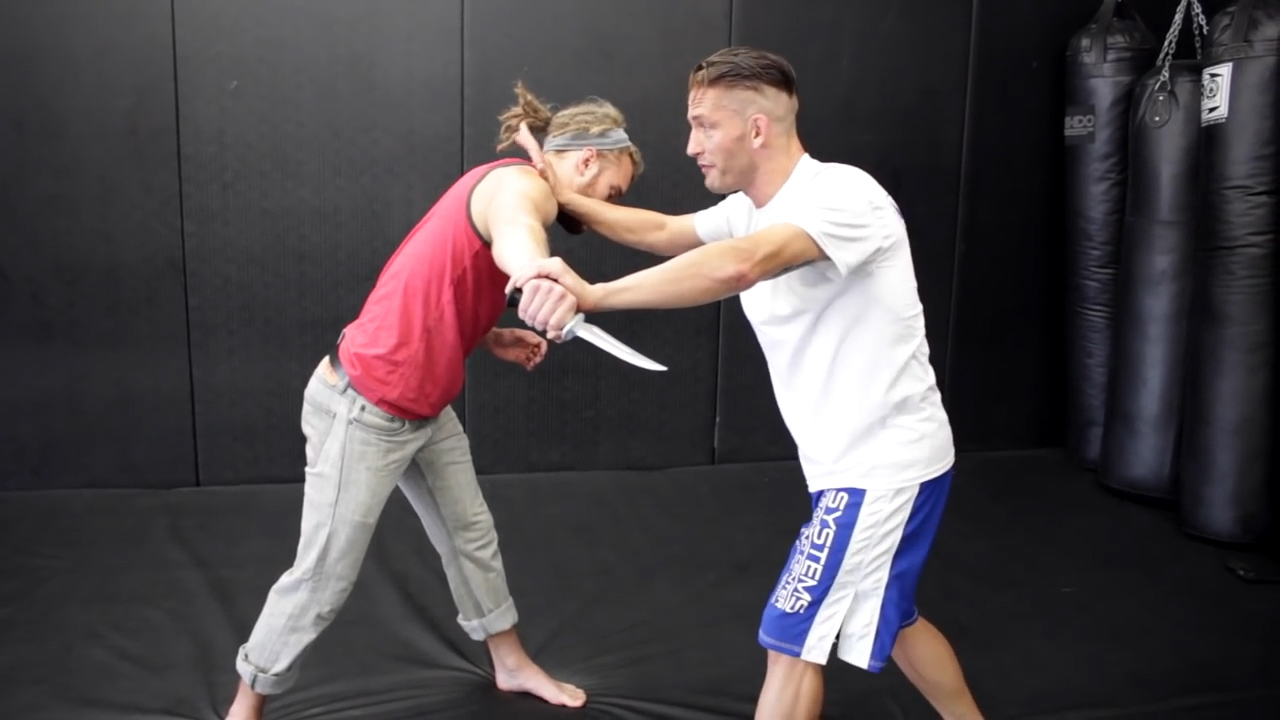knife: (505, 285, 685, 387)
